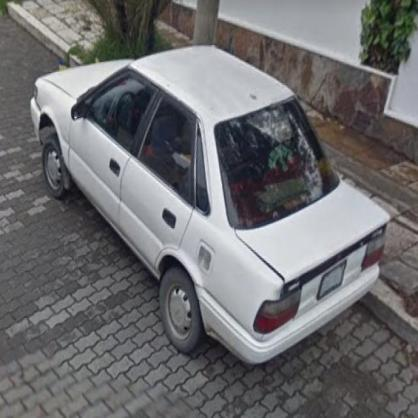car: (32, 42, 393, 370)
